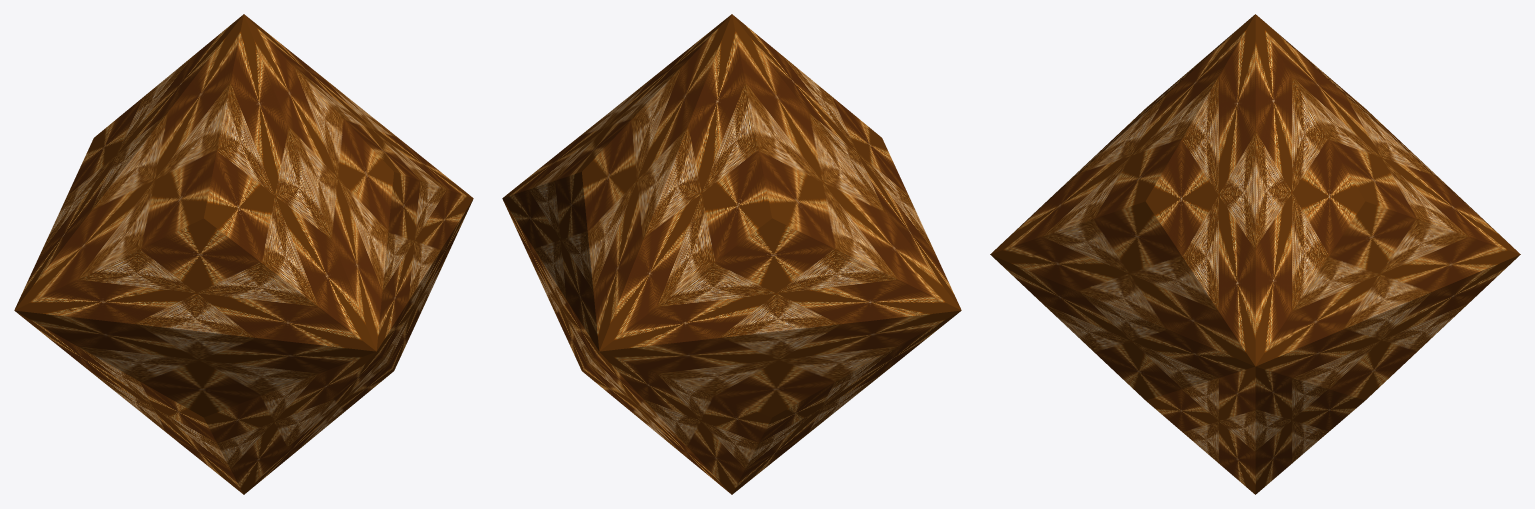
The model's file is 20TriakisOctahedron.obj.
The picture shows the model from 3 angles, left to right: view 1: azimuth 30°, elevation 25°; view 2: azimuth 150°, elevation 25°; view 3: azimuth 270°, elevation 25°; orthographic projection.
Size of the model in its own units: 4.83 by 4.83 by 4.83.
1 material, 1 textured.
